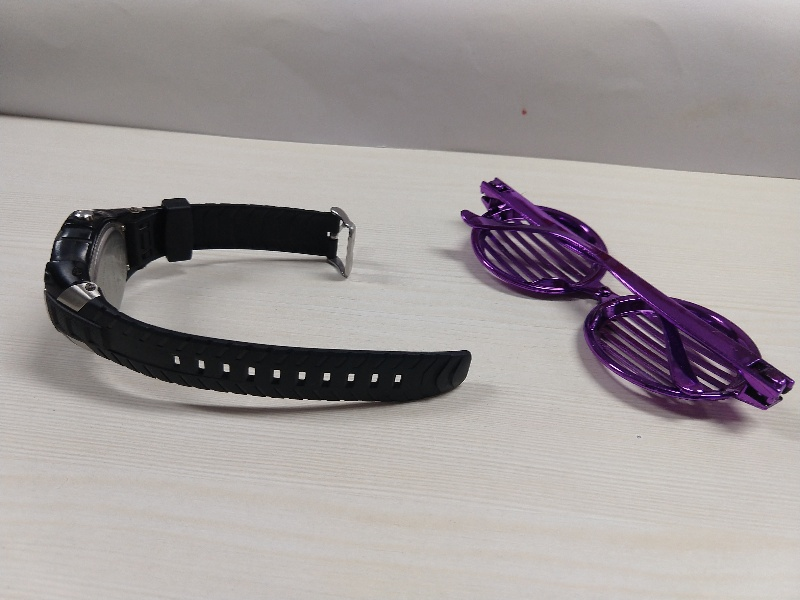shades: (462, 158, 794, 422)
watch: (42, 189, 460, 417)
